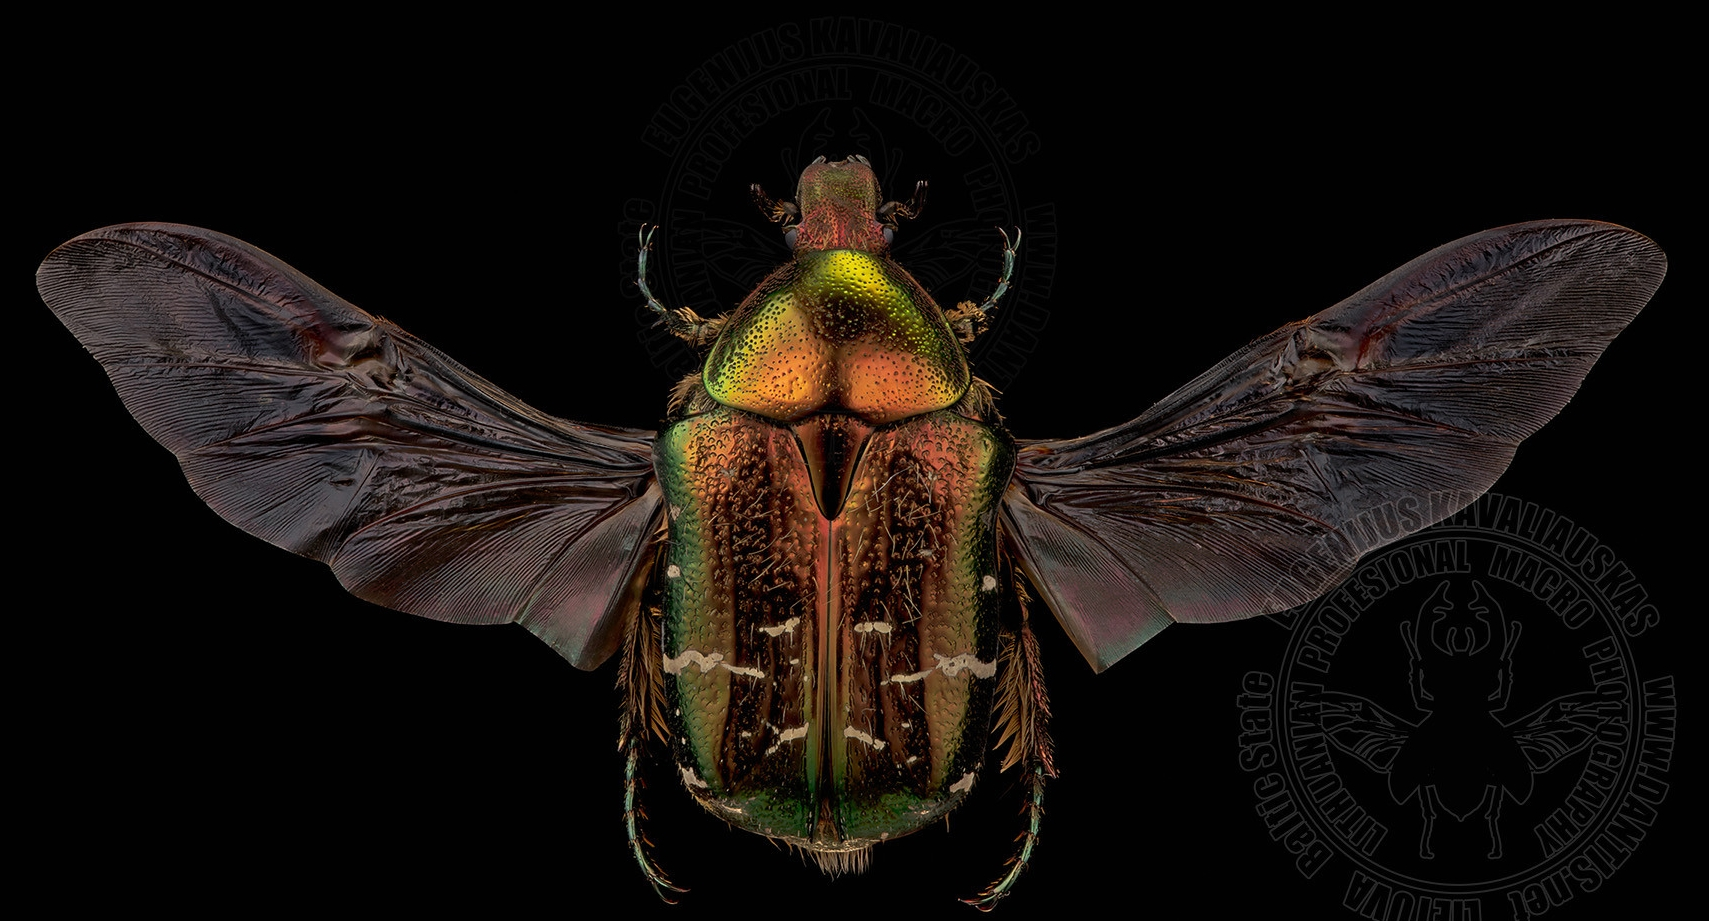Cetonia_aurata: (609, 137, 1058, 916)
